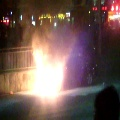fire: (28, 46, 63, 97)
